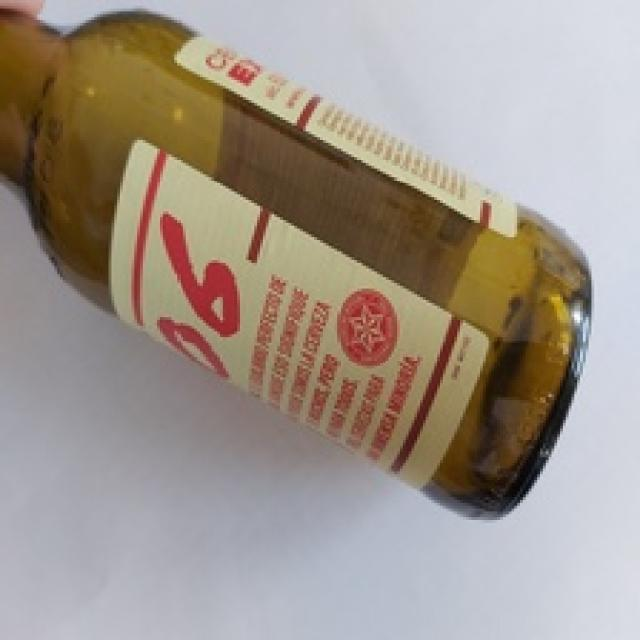Glass: (0, 0, 594, 525)
